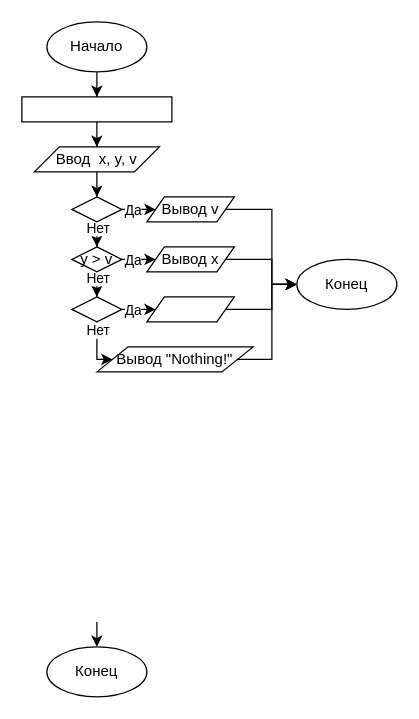
The diagram is 419 pixels wide and 719 high, and some of its shapes have lost their labels. Here are the shapes that lost their labels. From the top down, the centre of each, then its label:
(96,109): Целые числа x, y, v
(96,209): x > y
(96,309): v > x
(190,309): Вывод y
